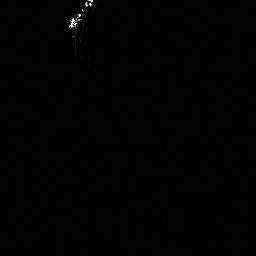ship: (64, 1, 96, 32)
